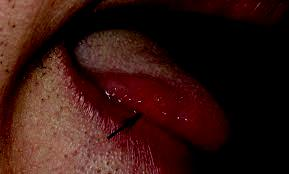Ulcer: (134, 83, 187, 125)
